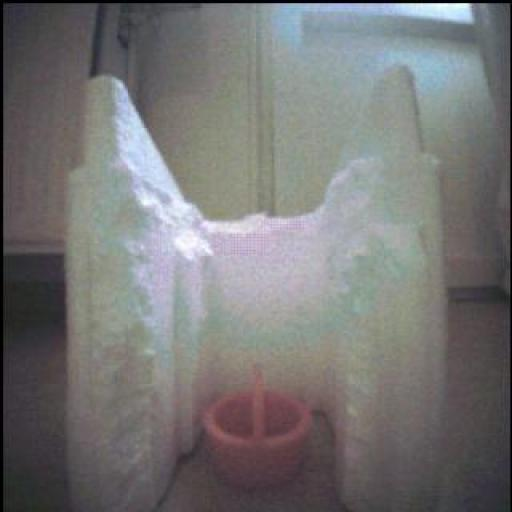Basket: (208, 366, 316, 484)
